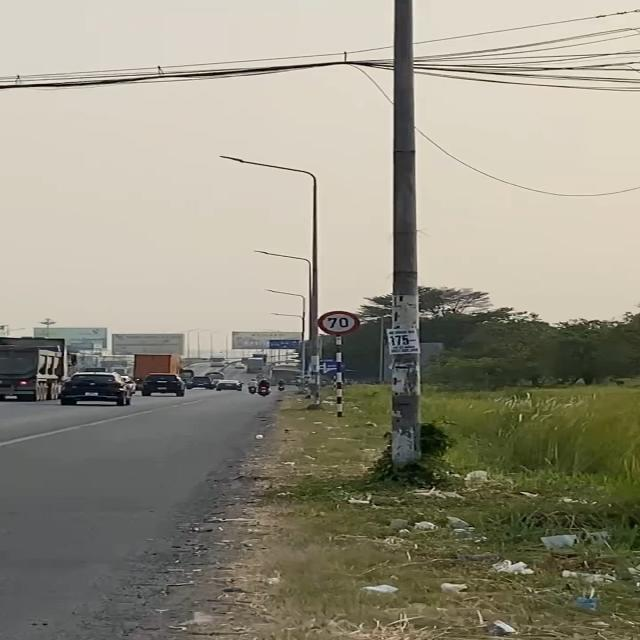127-toc-do-toi-da-70: (318, 309, 360, 336)
